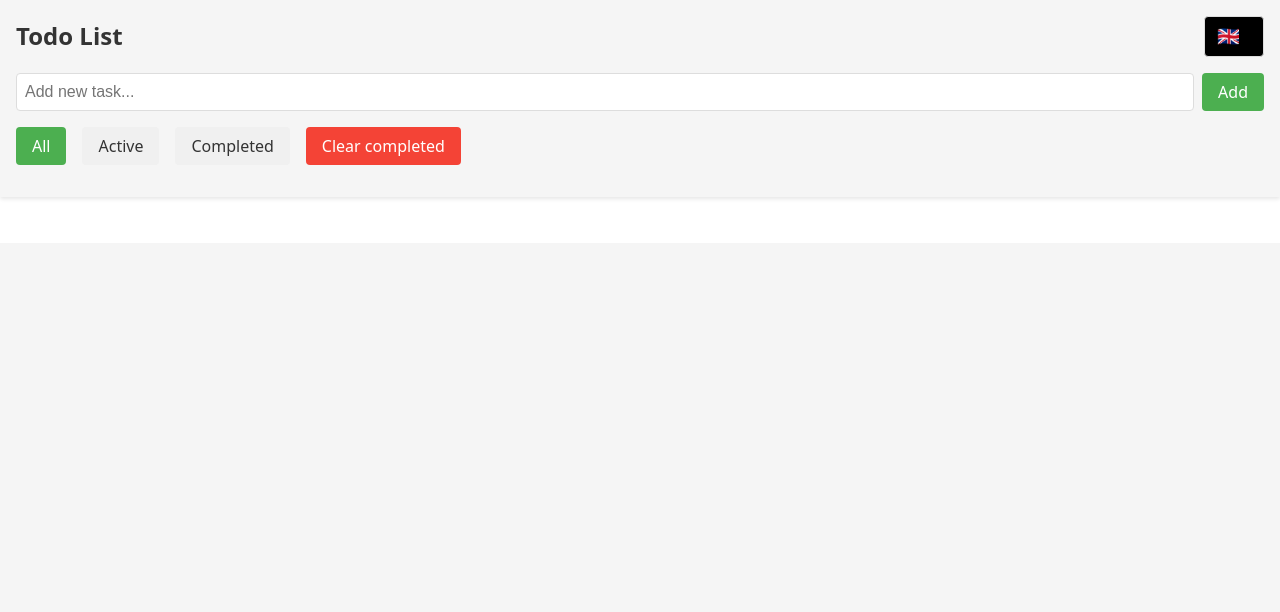
Test case: TodoList › clears completed todos
Step 1. Click the button "Clear completed" → coordinates (383, 146), box [306,127,461,165]
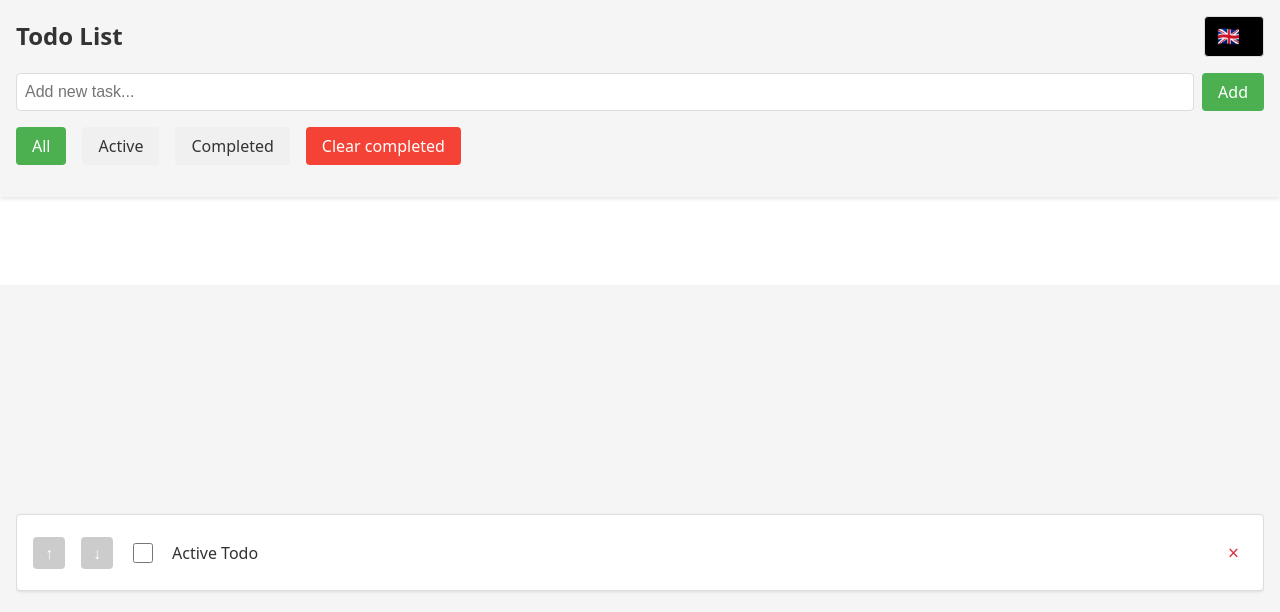
Check: the text "Active Todo" is shown, box [172,542,258,564]
